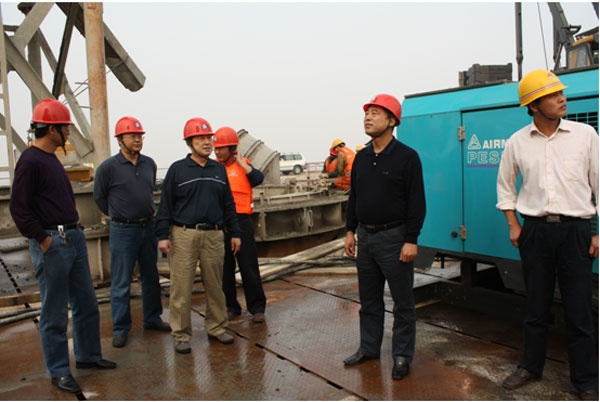red: (32, 96, 73, 149), (363, 92, 402, 139), (181, 114, 213, 158), (113, 116, 145, 153), (210, 123, 237, 162)
yellow: (515, 70, 568, 121), (331, 137, 343, 153)
